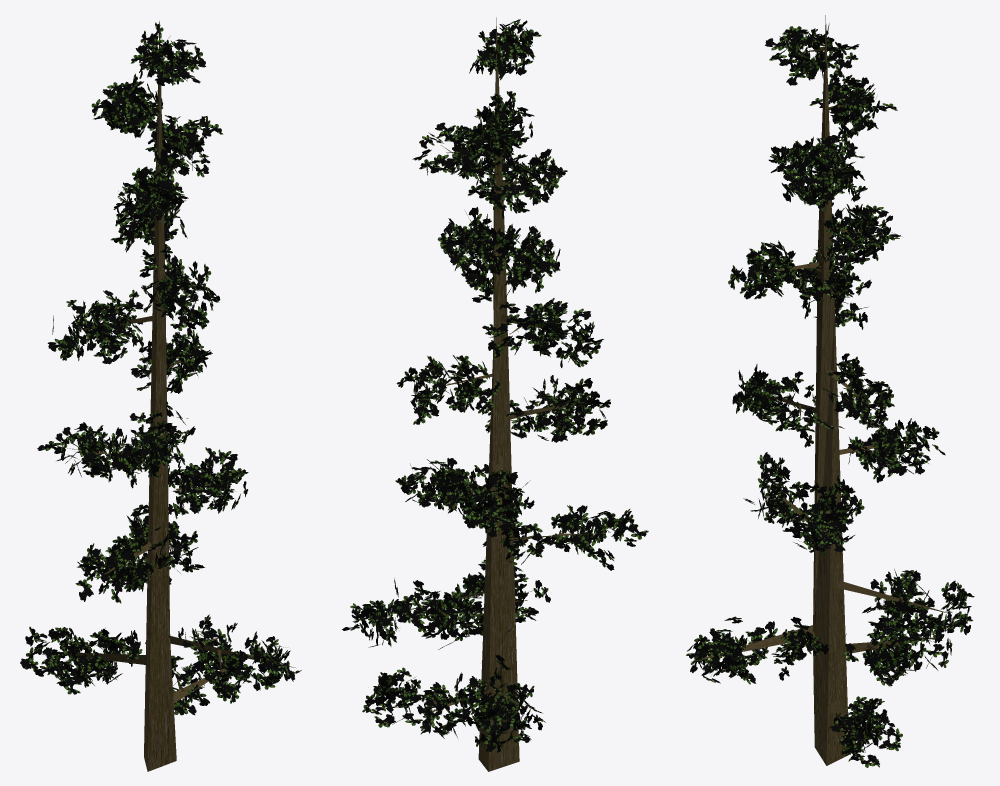
The model's file is spruce_conifer_v01_LOD2.fbx.
3 views of the same model, side by side, from view 1: azimuth 30°, elevation 25°; view 2: azimuth 150°, elevation 25°; view 3: azimuth 270°, elevation 25° (orthographic).
Parts seen in each view (by area): view 1: spruce_conifer_v01_LOD2; view 2: spruce_conifer_v01_LOD2; view 3: spruce_conifer_v01_LOD2.
Part boxes in pixels (x1,y1,x2,y2): spruce_conifer_v01_LOD2: (20,21,301,771); spruce_conifer_v01_LOD2: (342,17,648,771); spruce_conifer_v01_LOD2: (686,15,974,767).
Bounding box in the file's own units: 704 × 814 × 2198.
Materials: 2 (2 with a texture image).
